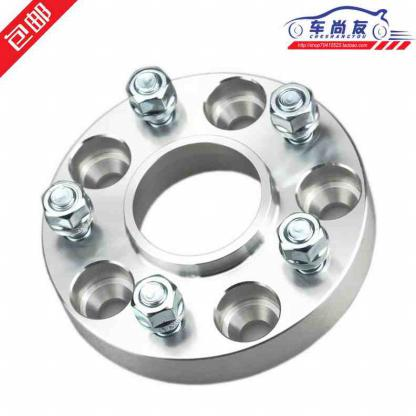FOD: (40, 60, 392, 384)
